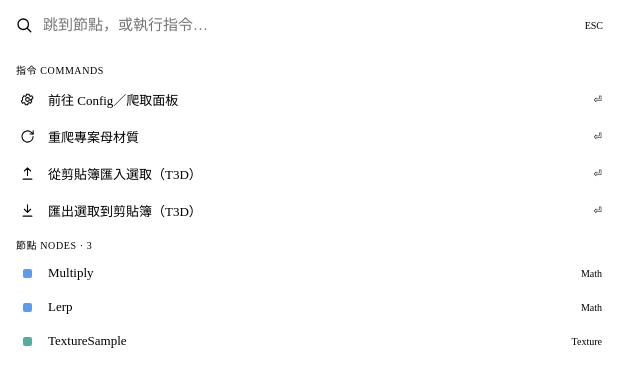
Test: CommandPalette › shows "no results" message when query matches nothing
This screenshot has width=620, height=365.
Type "zzznomatch" into the field with placeholder "跳到節點，或執行指令…" at point(309, 25), box [43,16,575,34]
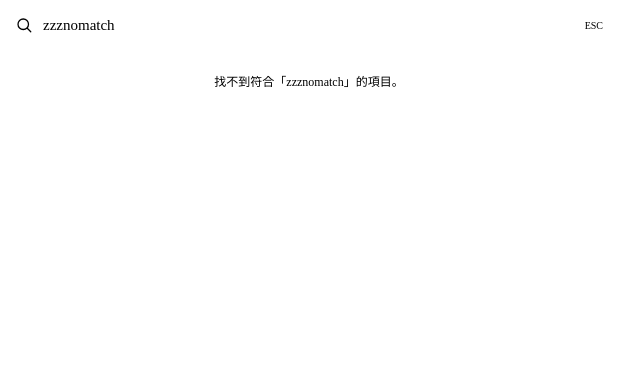
expect the text "找不到符合「zzznomatch」的項目。" is shown: met, box [214,75,404,89]
